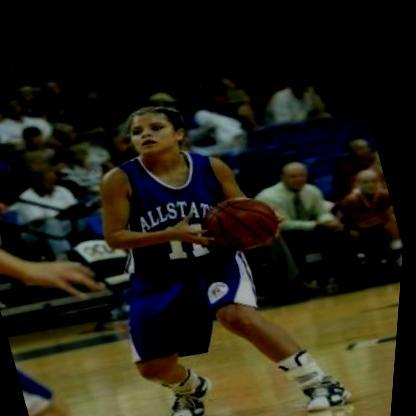basketball: (191, 164, 293, 262)
